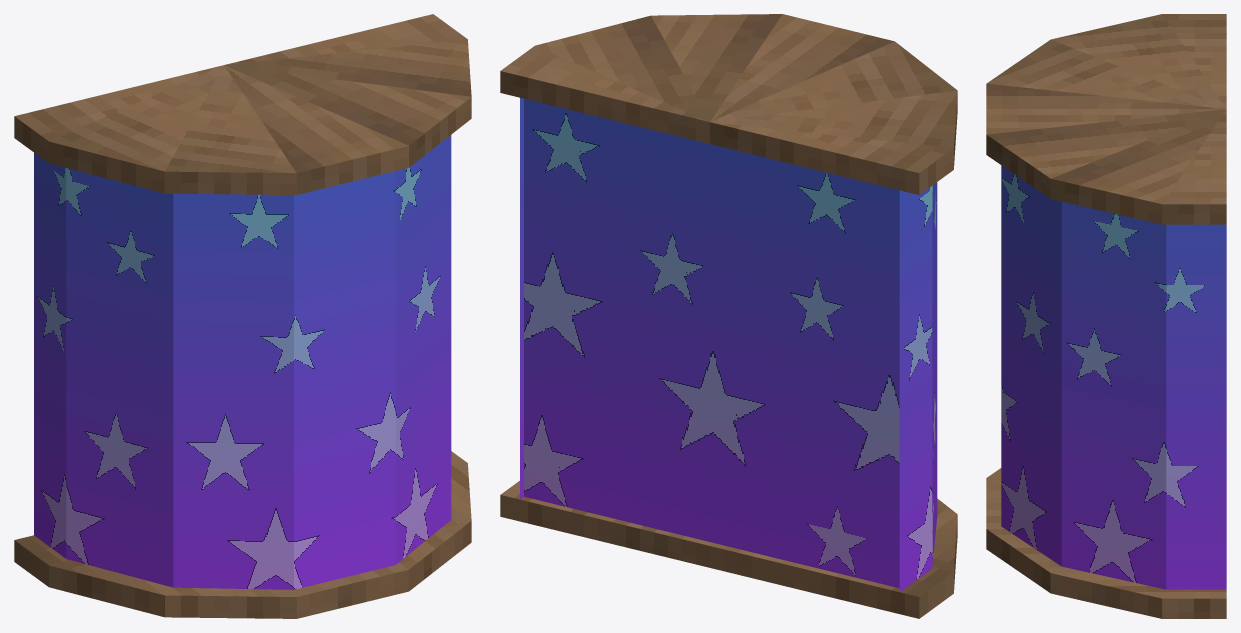
Rendered from curtern.gltf.
3 views of the same model, side by side, from view 1: azimuth 30°, elevation 25°; view 2: azimuth 150°, elevation 25°; view 3: azimuth 270°, elevation 25° (orthographic). The views are drawn at different scales.
Parts seen in each view (by area): view 1: left, cylinder (×2), right; view 2: back, cylinder (×2), left, right; view 3: right, cylinder (×2).
Boxes of the visible parts, x1,y1,x2,y2 form: left: [34, 153, 344, 589]; cylinder (×2): [14, 14, 471, 618]; right: [344, 135, 451, 577]; back: [524, 98, 899, 588]; cylinder (×2): [500, 14, 957, 618]; left: [899, 182, 937, 591]; right: [520, 98, 523, 499]; right: [1001, 165, 1226, 589]; cylinder (×2): [986, 14, 1226, 618].
Bounding box in the file's own units: 3 × 3.05 × 1.6.
4 materials, 4 textured.
